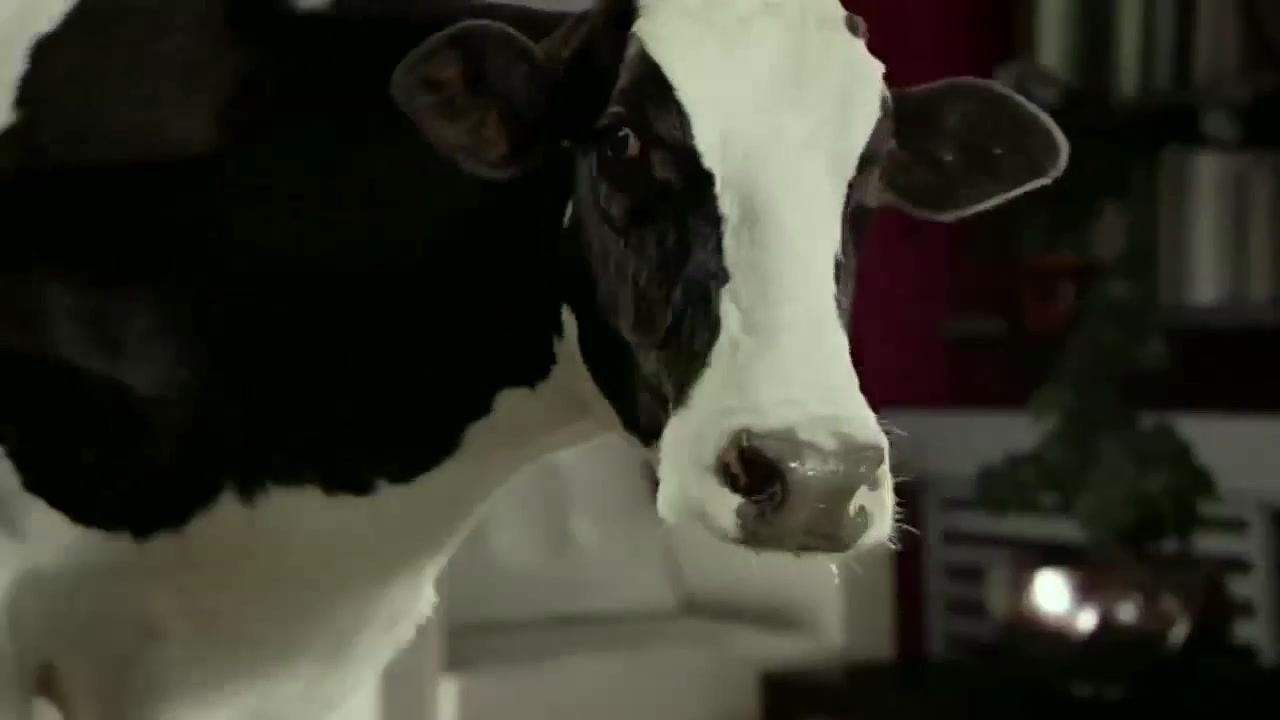cow: (1, 2, 1078, 720)
